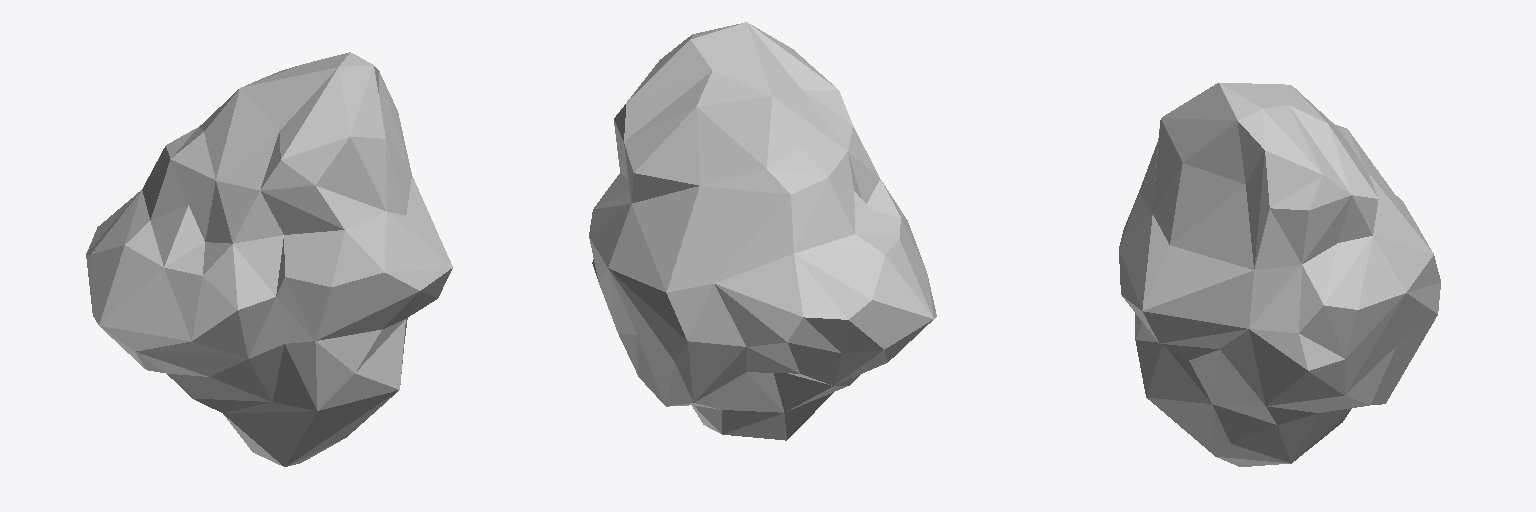
Rendered from AsteroidC.obj.
3 views of the same model, side by side, from view 1: azimuth 30°, elevation 25°; view 2: azimuth 150°, elevation 25°; view 3: azimuth 270°, elevation 25° (orthographic).
Parts seen in each view (by area): view 1: AsteroidC; view 2: AsteroidC; view 3: AsteroidC.
Part boxes in pixels (x1,y1,x2,y2): AsteroidC: (86,52,452,466); AsteroidC: (589,22,936,440); AsteroidC: (1119,83,1440,466).
Size of the model in its own units: 3.03 by 3.56 by 2.62.